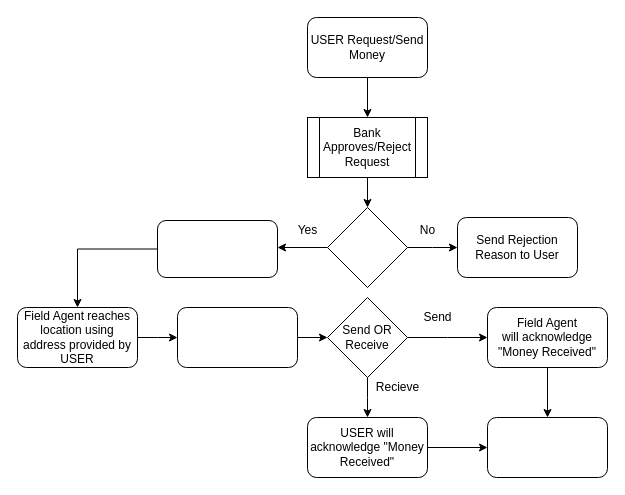
The diagram is 625 pixels wide and 495 high, and some of its shapes have lost their labels. The shapes that lost their labels are listed below. From the top down, each one's centre as x and y in pixels, then its label:
the point at 217,249: Confirmation Sent to Field Agent And OTP sent to USER
the point at 367,247: Is approved?
the point at 237,337: Filed Agent validates OTP
the point at 547,447: Bank records will be updated accordingly
